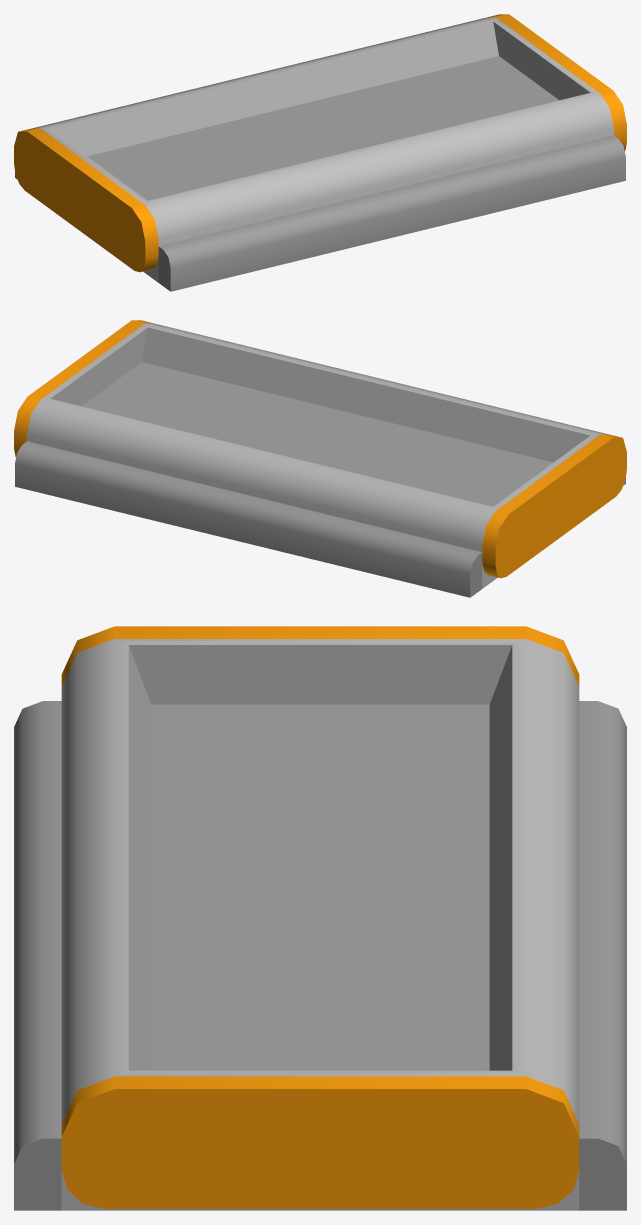
The model's file is productionDisplay.fbx.
The picture shows the model from 3 angles, top to bottom: view 1: azimuth 30°, elevation 25°; view 2: azimuth 150°, elevation 25°; view 3: azimuth 270°, elevation 25°; orthographic projection. The views are drawn at different scales.
Parts seen in each view (by area): view 1: collectBox; view 2: collectBox; view 3: collectBox.
Boxes of the visible parts, x1=… form: collectBox: x1=14, y1=14, x2=626, y2=291; collectBox: x1=14, y1=320, x2=626, y2=597; collectBox: x1=14, y1=626, x2=626, y2=1210.
Size of the model in its own units: 423 by 57.23 by 237.
